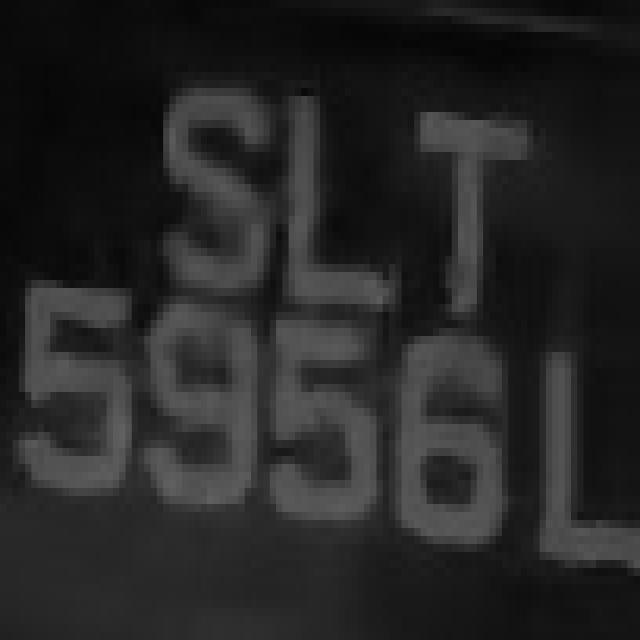5: (12, 224, 144, 536), (270, 272, 383, 552)
6: (376, 304, 508, 584)
9: (113, 280, 270, 512)
L: (282, 64, 427, 320), (527, 312, 634, 576)
S: (144, 64, 270, 312)
T: (401, 72, 546, 312)
